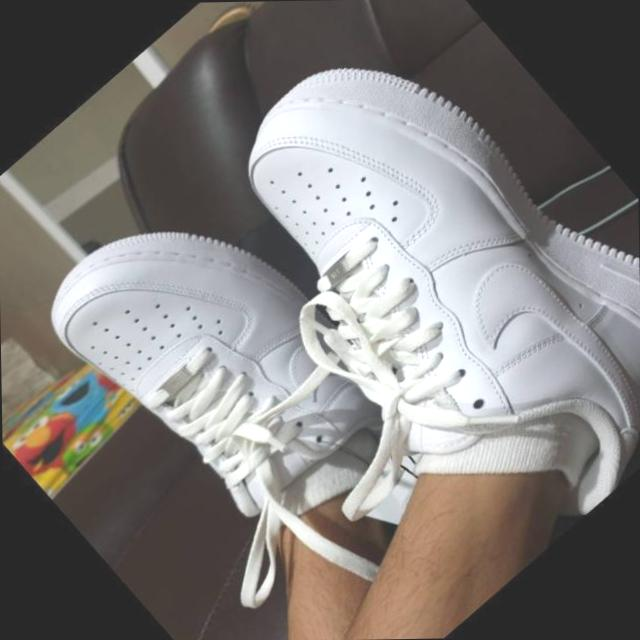nike_original_airforce: (162, 0, 640, 584), (21, 160, 446, 605)
